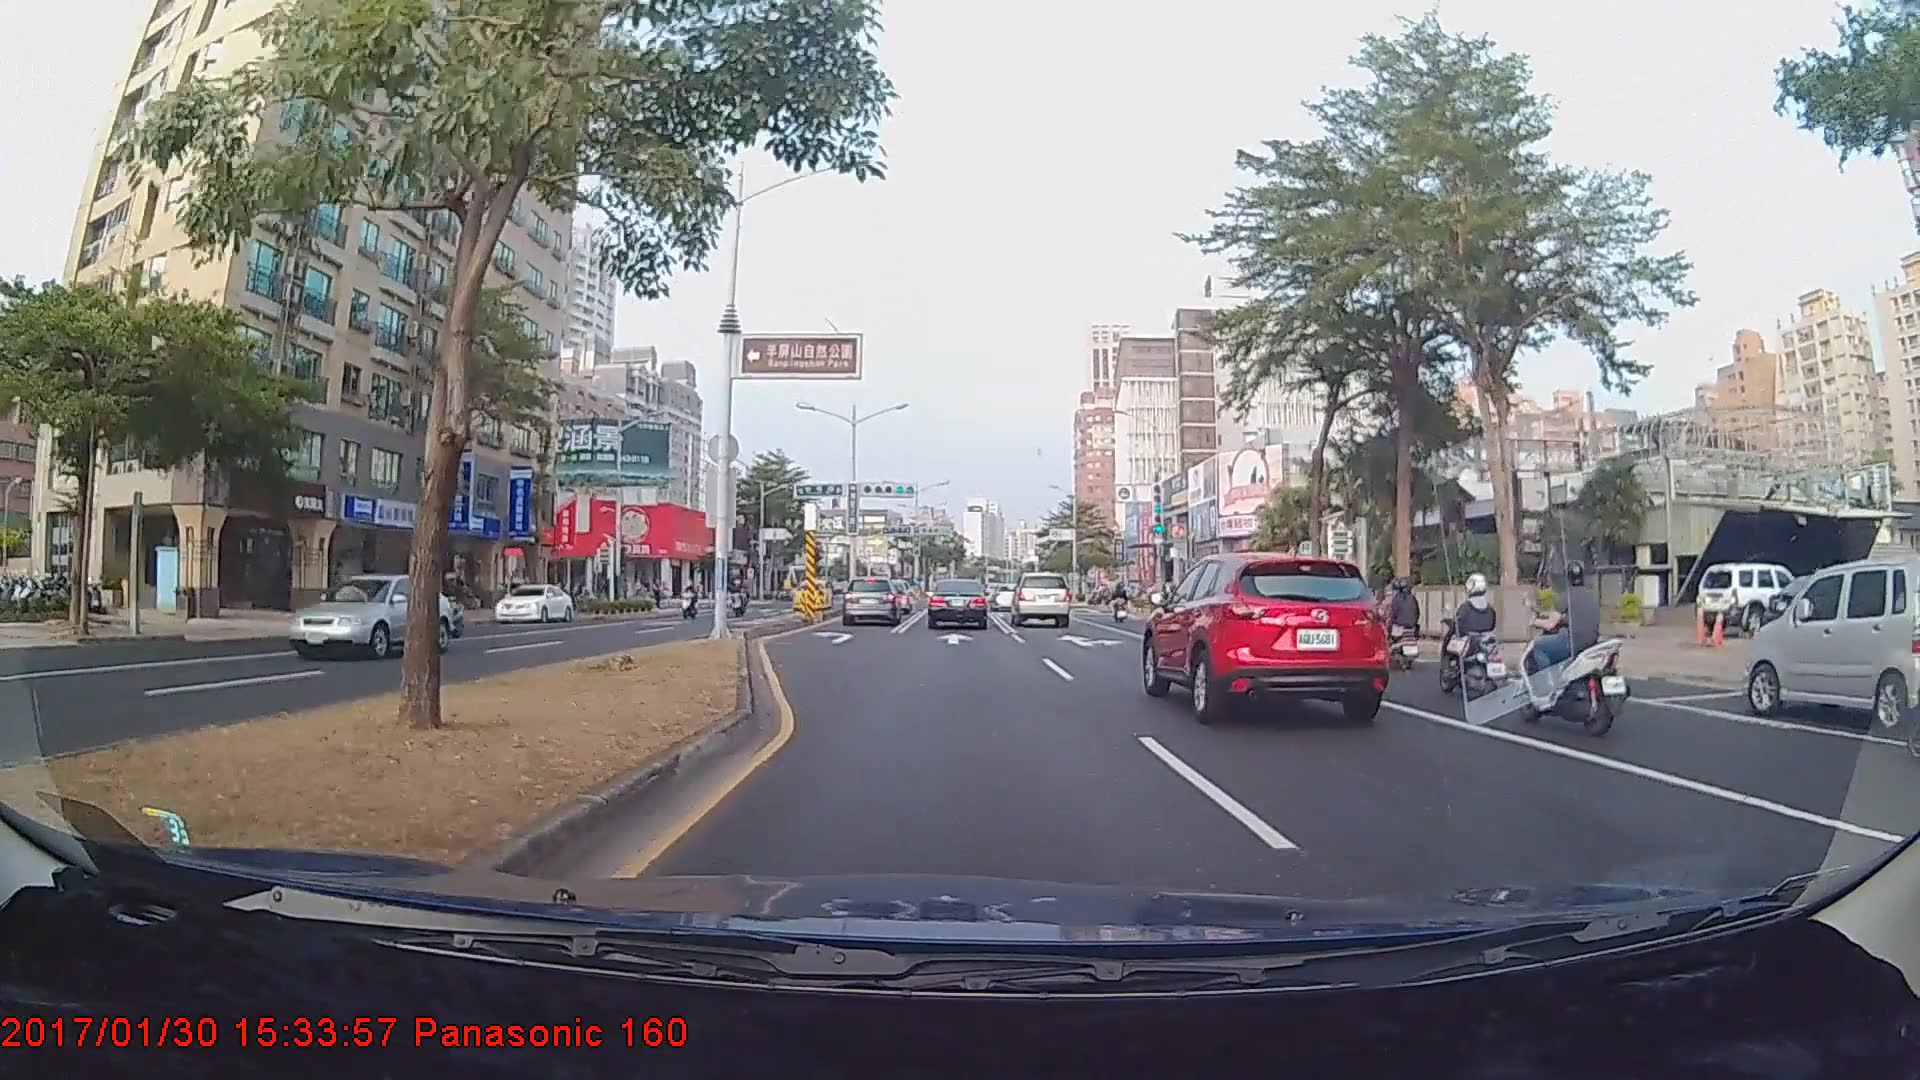rider: (1516, 553, 1632, 738), (1431, 572, 1528, 714), (1370, 576, 1424, 679), (1107, 582, 1134, 625)
vehicle: (1146, 546, 1388, 719), (1750, 557, 1919, 728), (285, 571, 453, 661), (1692, 559, 1794, 631), (840, 574, 911, 626), (1011, 570, 1071, 627), (927, 577, 988, 631), (494, 582, 574, 623)
